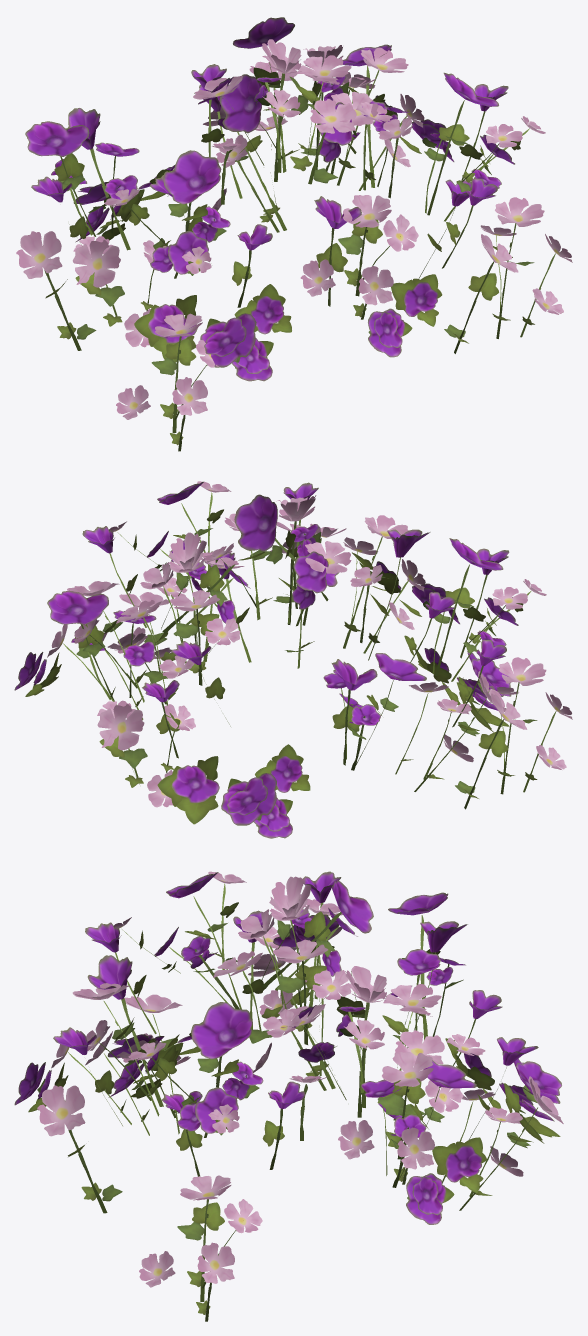
File: Bush2.fbx
The picture shows the model from 3 angles, top to bottom: view 1: azimuth 30°, elevation 25°; view 2: azimuth 150°, elevation 25°; view 3: azimuth 270°, elevation 25°; orthographic projection. The views are drawn at different scales.
Parts seen in each view (by area): view 1: SM_Bush_04_LOD0.001; view 2: SM_Bush_04_LOD0.001; view 3: SM_Bush_04_LOD0.001.
Boxes of the visible parts, box(x1,y1,x2,y2) form: SM_Bush_04_LOD0.001: box(16, 17, 572, 451); SM_Bush_04_LOD0.001: box(14, 481, 572, 838); SM_Bush_04_LOD0.001: box(14, 871, 563, 1321).
Size of what is drawn, in the model's own units: 837 by 524 by 761.
